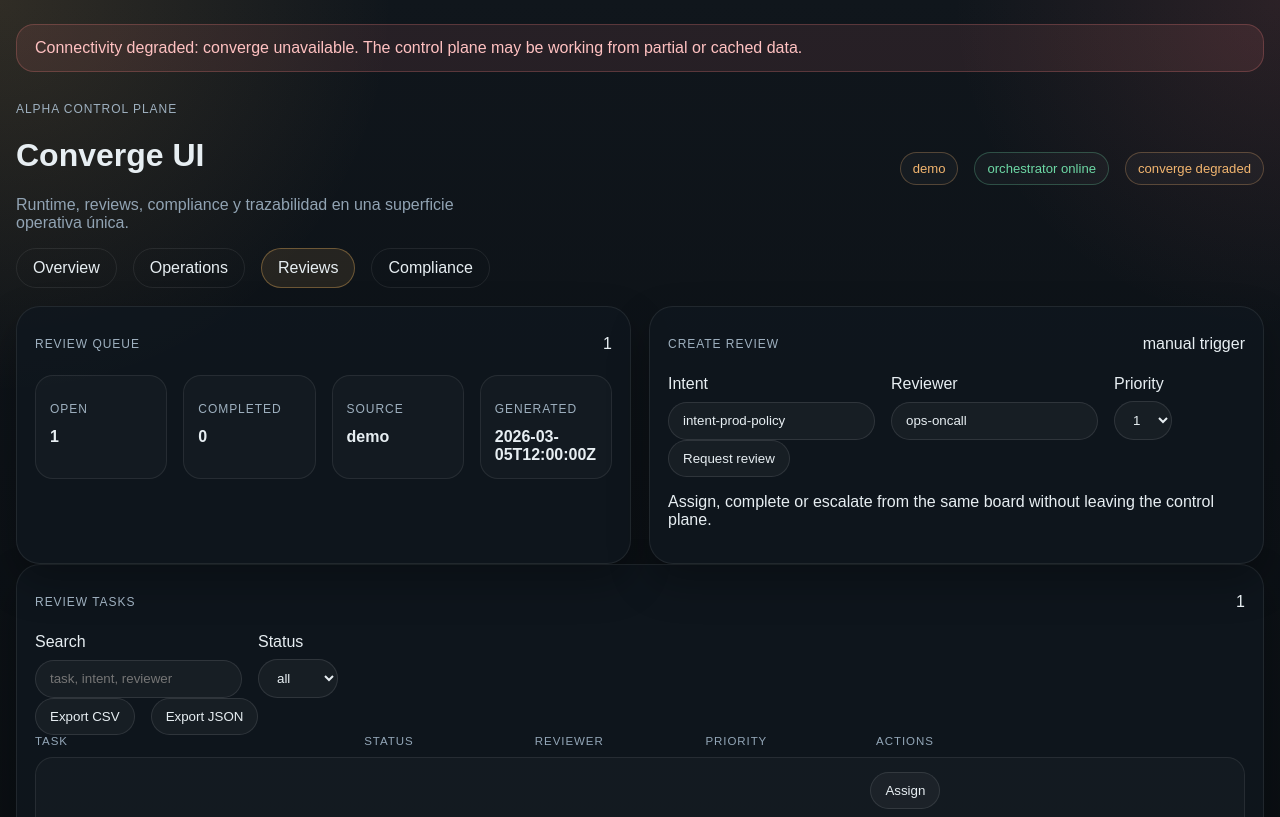
Test: App › requests a review from the reviews page
Expected: the text "Create review" is shown, 668,337 -> 779,351
Click the button "Request review" at (729, 458), box 668,440 -> 790,477
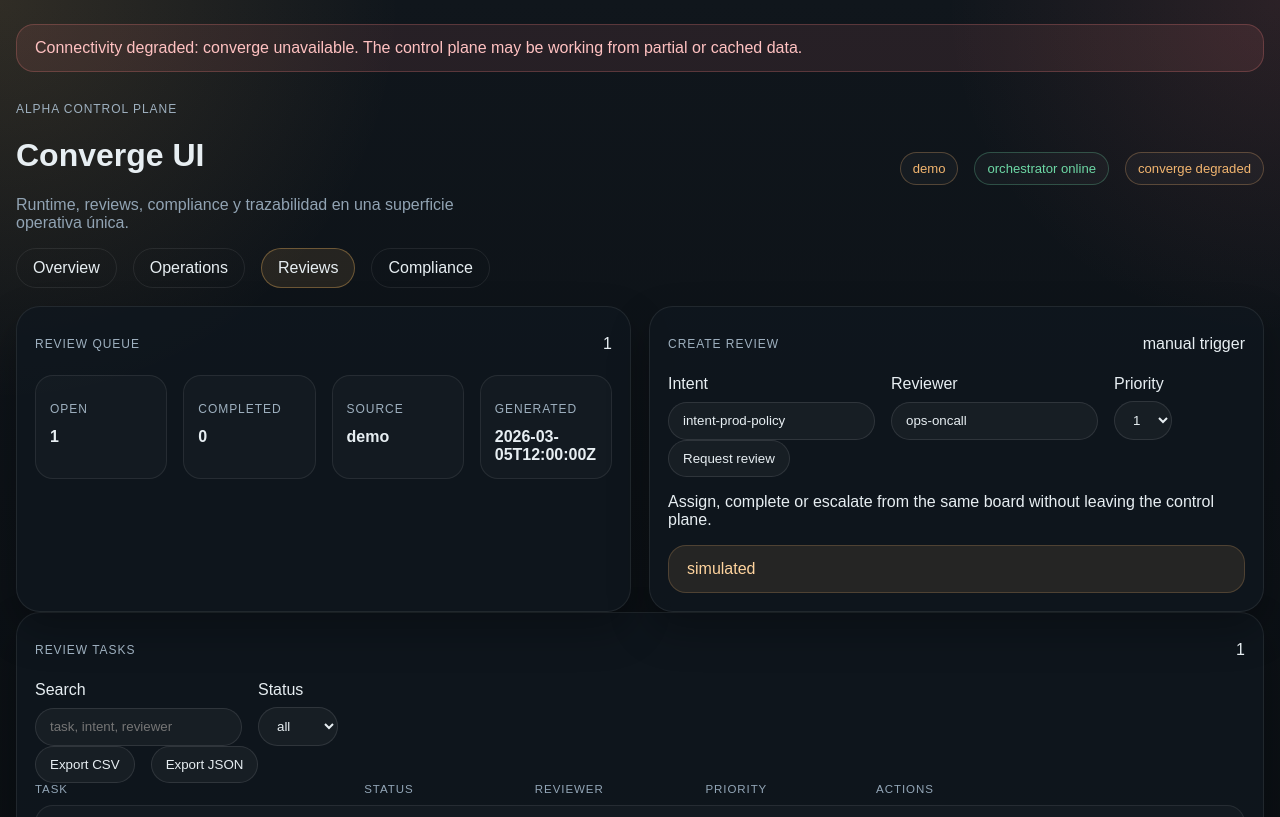
Expected: the text "simulated" is shown, 668,545 -> 1245,593
